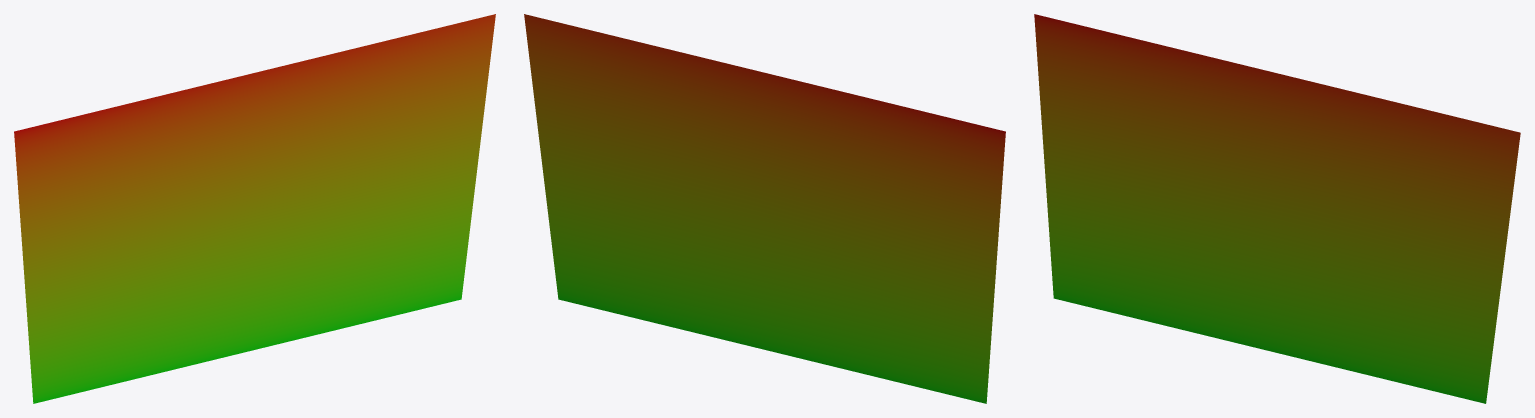
The model's file is Var10_LOD3.fbx.
3 views of the same model, side by side, from view 1: azimuth 30°, elevation 25°; view 2: azimuth 150°, elevation 25°; view 3: azimuth 330°, elevation 25° (orthographic).
Visible parts, largest first — view 1: _4cf5_Var10_LOD3; view 2: _4cf5_Var10_LOD3; view 3: _4cf5_Var10_LOD3.
Boxes of the visible parts, left/top/right/bottom form: _4cf5_Var10_LOD3: left=14, top=14, right=495, bottom=403; _4cf5_Var10_LOD3: left=524, top=14, right=1005, bottom=403; _4cf5_Var10_LOD3: left=1034, top=14, right=1520, bottom=403.
Size of the model in its own units: 47.48 by 26.09 by 0.00106.
